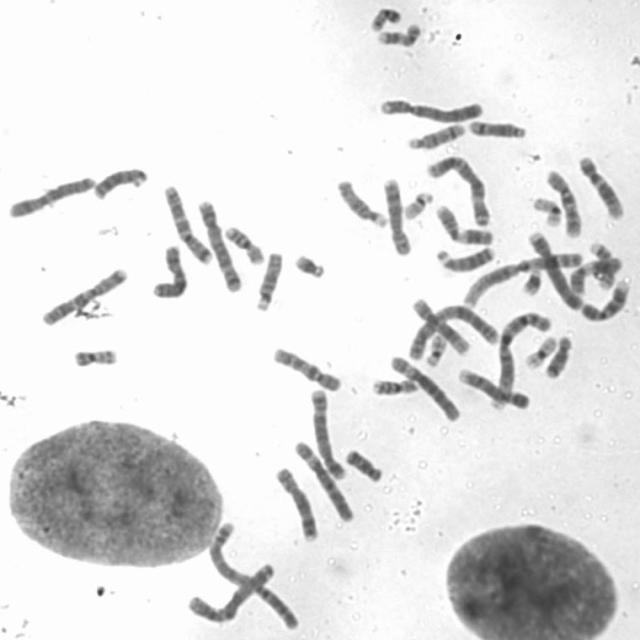A1: (458, 247, 586, 310), (490, 307, 552, 411)
A2: (206, 518, 302, 631), (406, 301, 500, 363)
A3: (184, 560, 276, 625), (423, 151, 492, 229)
B4: (524, 227, 584, 311), (376, 93, 485, 124)
B5: (195, 197, 245, 294), (306, 384, 347, 482)
C10: (270, 342, 344, 392), (542, 168, 584, 239)
C11: (432, 202, 496, 246), (568, 254, 626, 296)
C12: (410, 296, 472, 357), (574, 151, 626, 220)
C6: (292, 437, 356, 524), (387, 351, 462, 423)
C7: (38, 265, 129, 327), (161, 182, 214, 265)
C8: (272, 463, 321, 544), (380, 175, 413, 258)
C9: (453, 364, 531, 410), (578, 280, 633, 323)
D13: (89, 164, 150, 202), (434, 242, 497, 273)
D14: (404, 120, 468, 151), (466, 116, 528, 140)
D15: (334, 175, 389, 228), (252, 247, 284, 314)
E16: (222, 222, 267, 266), (369, 374, 421, 397)
E17: (584, 238, 616, 292), (372, 19, 424, 48)
E18: (342, 444, 385, 484), (542, 332, 575, 380)
F19: (522, 331, 558, 370), (530, 194, 563, 228)
F20: (69, 344, 120, 368), (366, 3, 404, 34)
G21: (290, 248, 328, 280), (518, 265, 545, 297)
G22: (400, 188, 435, 222), (422, 330, 448, 368)
X: (5, 173, 97, 219), (149, 240, 190, 300)
